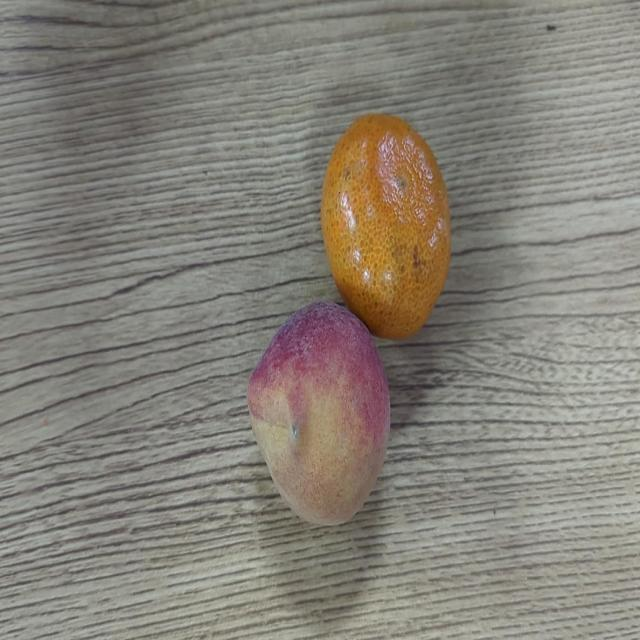Jeruk Mandarin: (324, 118, 472, 337)
Persik: (246, 303, 390, 518)
